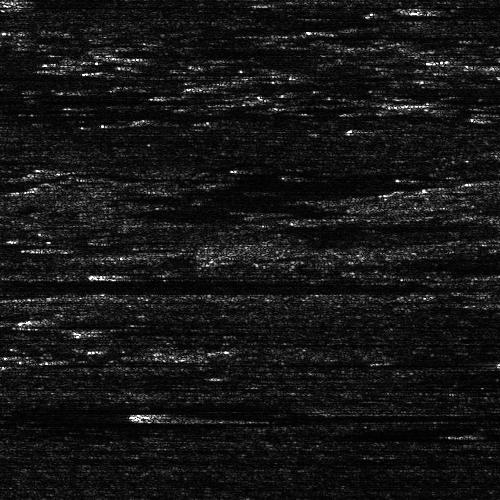rock: (21, 45, 218, 64), (186, 175, 259, 188), (0, 316, 69, 325), (66, 325, 129, 334), (0, 106, 41, 119), (18, 245, 81, 250), (0, 0, 59, 5), (169, 83, 222, 88), (77, 271, 130, 276), (197, 373, 238, 376)
shadow: (0, 106, 288, 119), (223, 175, 392, 188), (120, 45, 201, 64), (98, 325, 256, 334), (28, 316, 184, 325), (23, 0, 188, 5), (0, 174, 57, 185), (196, 83, 279, 88), (104, 271, 184, 276), (50, 245, 128, 250), (218, 373, 299, 376)
